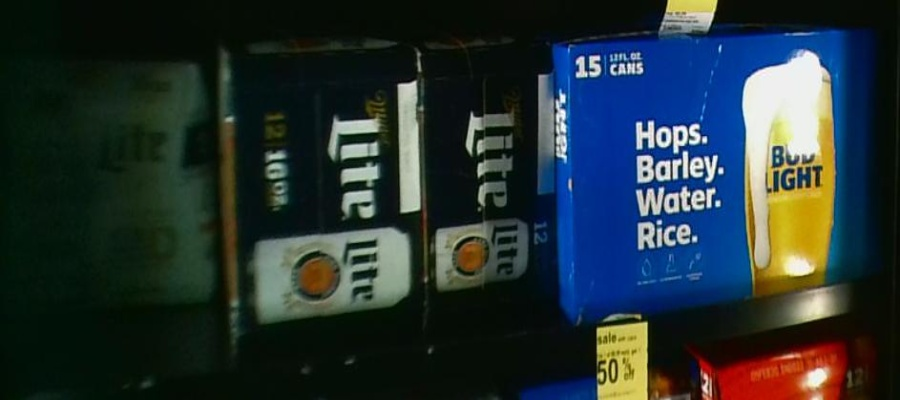bottle: (562, 26, 880, 297), (227, 50, 426, 322), (19, 56, 214, 297), (419, 47, 540, 293)
